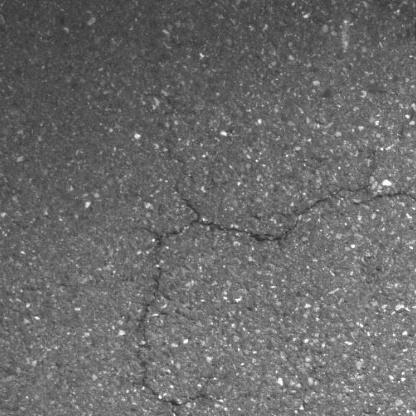Cracks: (132, 179, 416, 416), (410, 0, 416, 66)
